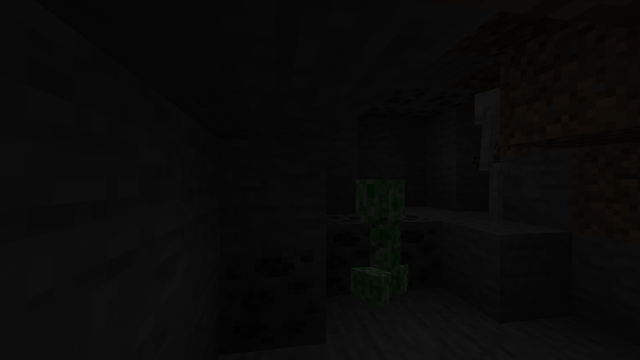creepers: (353, 173, 409, 303)
squelettes: (469, 84, 517, 221)
